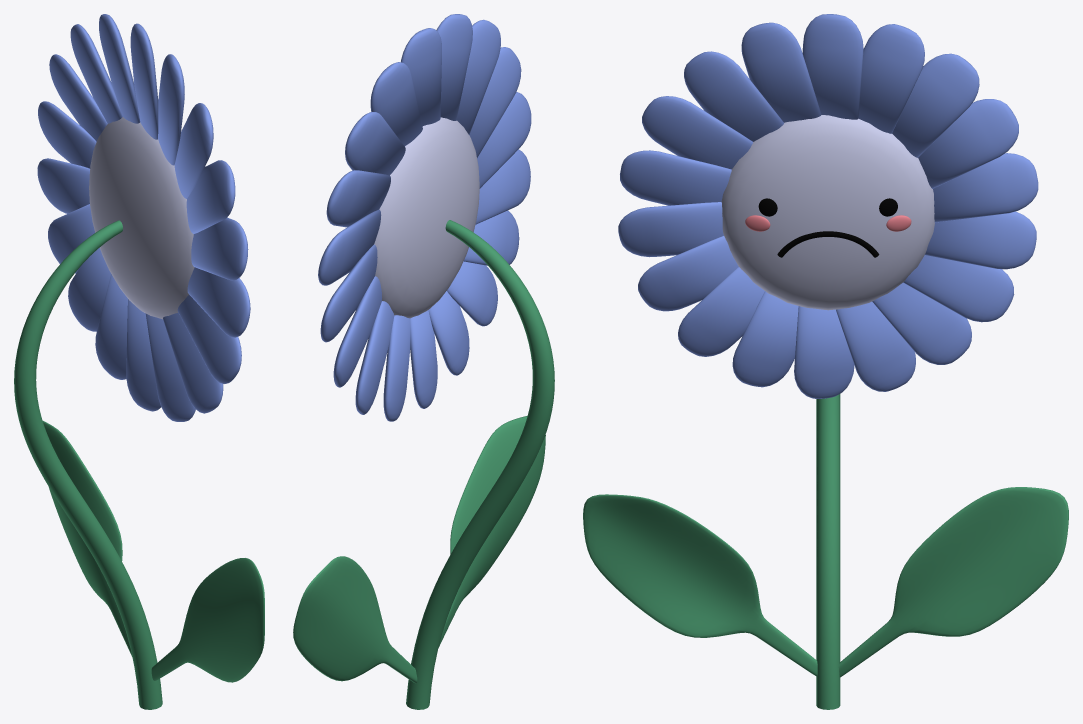
File: sad.glb
3 renders of one model, left to right at view 1: azimuth 30°, elevation 25°; view 2: azimuth 150°, elevation 25°; view 3: azimuth 270°, elevation 25°, orthographic.
Visible parts, largest first — view 1: Petals, Face, Stem, Left Leaf, Right Leaf; view 2: Petals, Face, Stem, Right Leaf, Left Leaf; view 3: Petals, Face, Right Leaf, Left Leaf, Stem.
Boxes of the visible parts, x1,y1,x2,y2 form: Petals: (37,14,250,421); Face: (89,117,194,319); Stem: (14,220,162,709); Left Leaf: (151,558,264,682); Right Leaf: (43,421,132,656); Petals: (318,14,531,421); Face: (374,117,479,318); Stem: (406,220,554,709); Right Leaf: (293,556,417,683); Left Leaf: (438,415,545,647); Petals: (618,14,1038,398); Face: (721,115,934,310); Right Leaf: (838,487,1068,677); Left Leaf: (583,494,817,676); Stem: (816,394,840,709).
Bounding box in the file's own units: 1.81 × 6.95 × 4.45.
